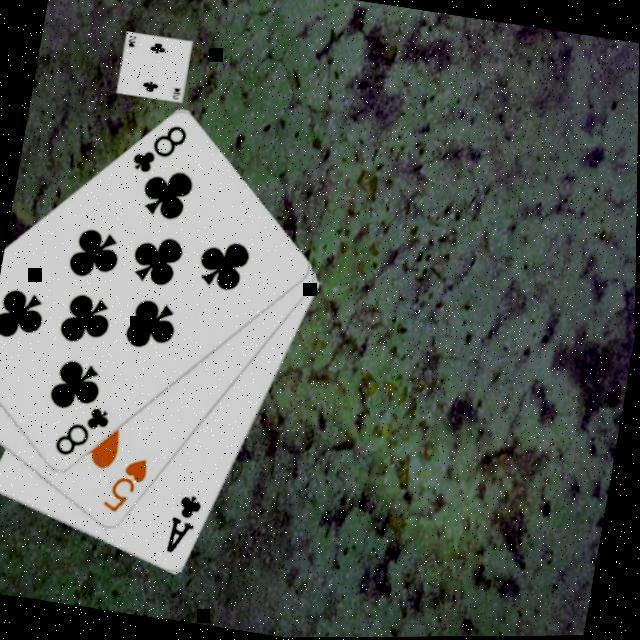5H: (97, 449, 153, 518)
8C: (49, 396, 115, 464), (126, 114, 192, 180)
AC: (162, 488, 206, 558)
